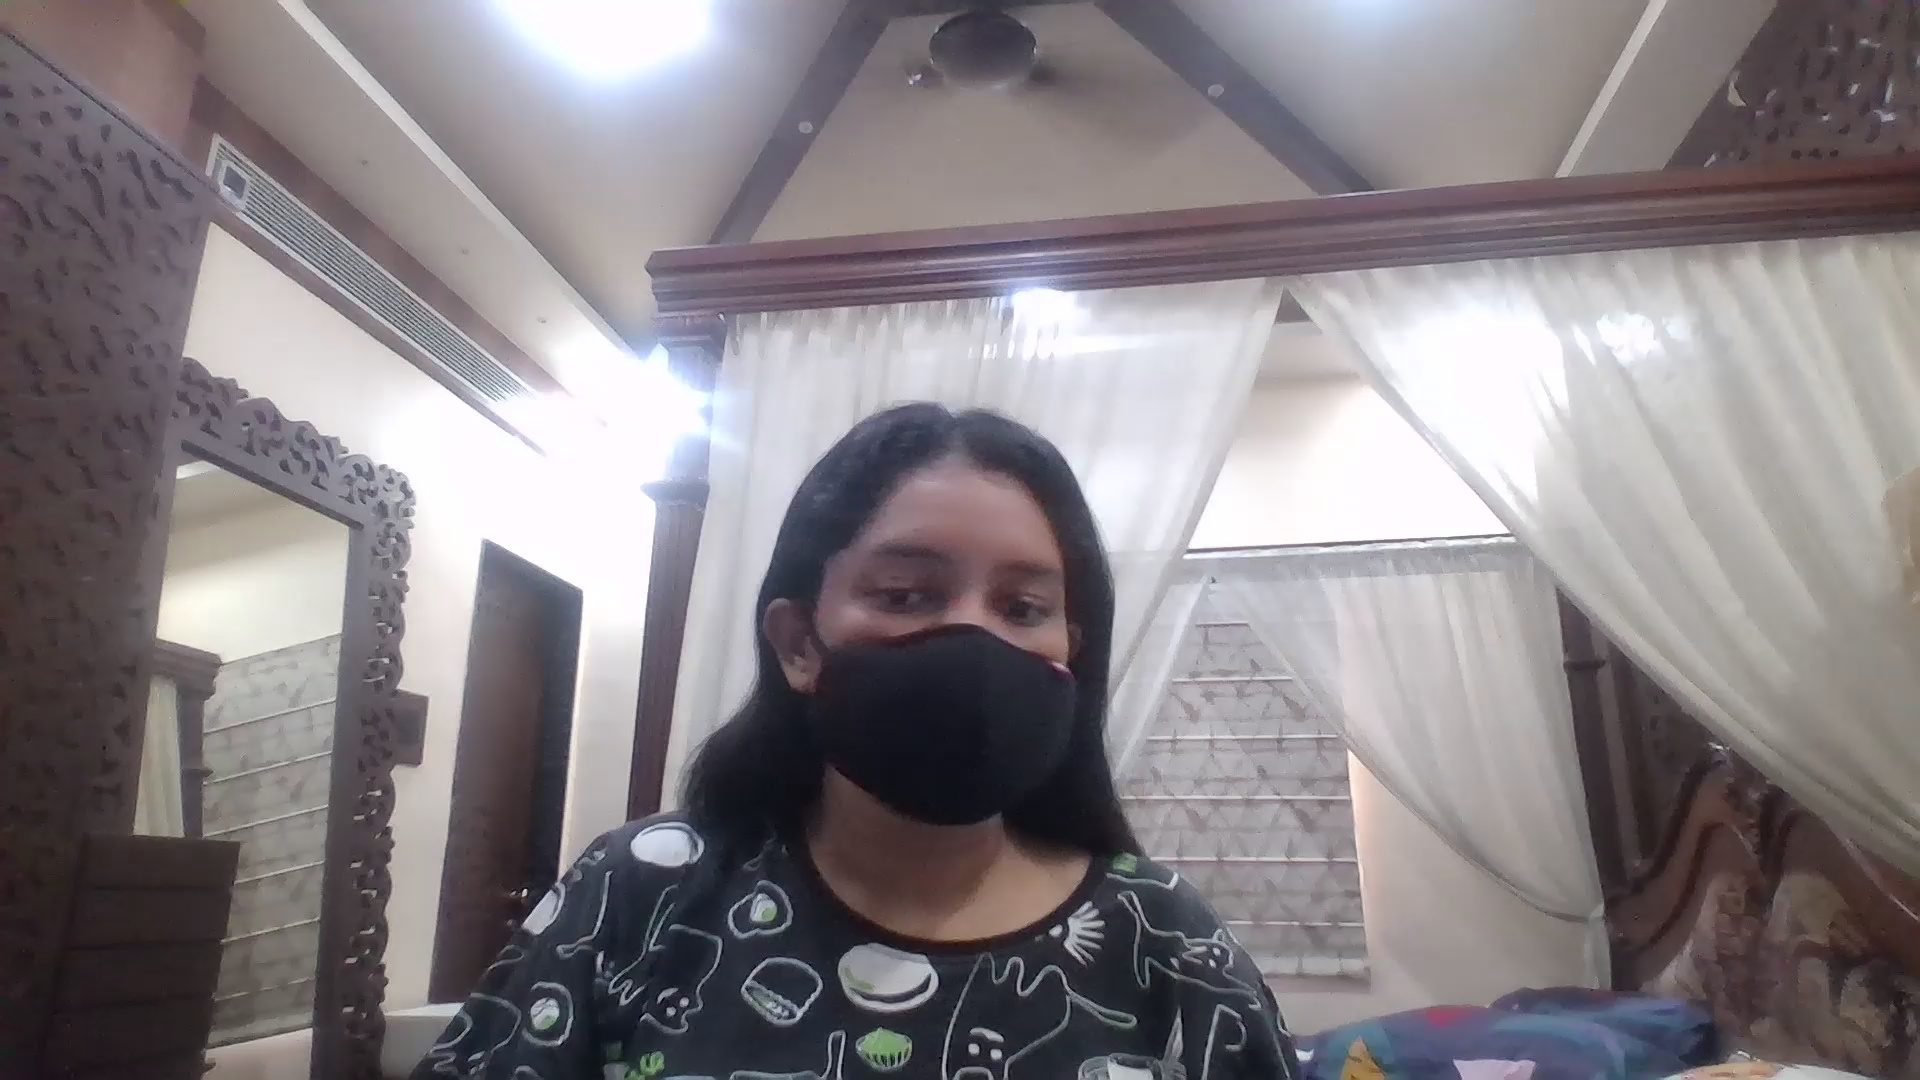Mask: (801, 627, 1075, 838)
